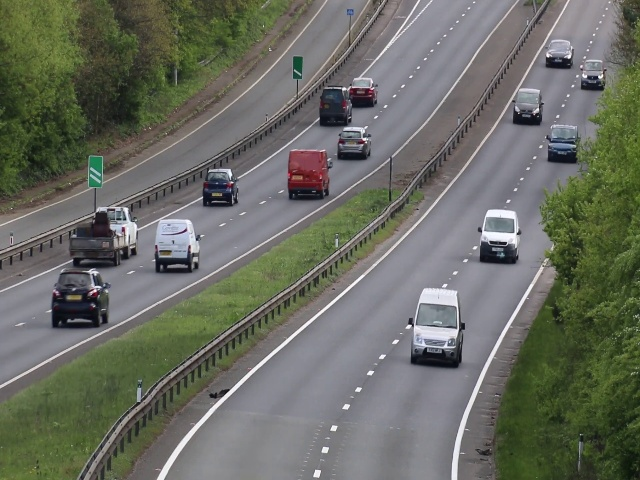car: (68, 206, 139, 265), (411, 288, 462, 370), (51, 270, 109, 330), (155, 219, 202, 273), (286, 149, 332, 199), (478, 208, 519, 264), (317, 82, 355, 127), (547, 120, 580, 163), (200, 171, 238, 205), (513, 86, 543, 126), (340, 126, 371, 159), (545, 39, 574, 70), (351, 76, 379, 108), (580, 60, 607, 91)
